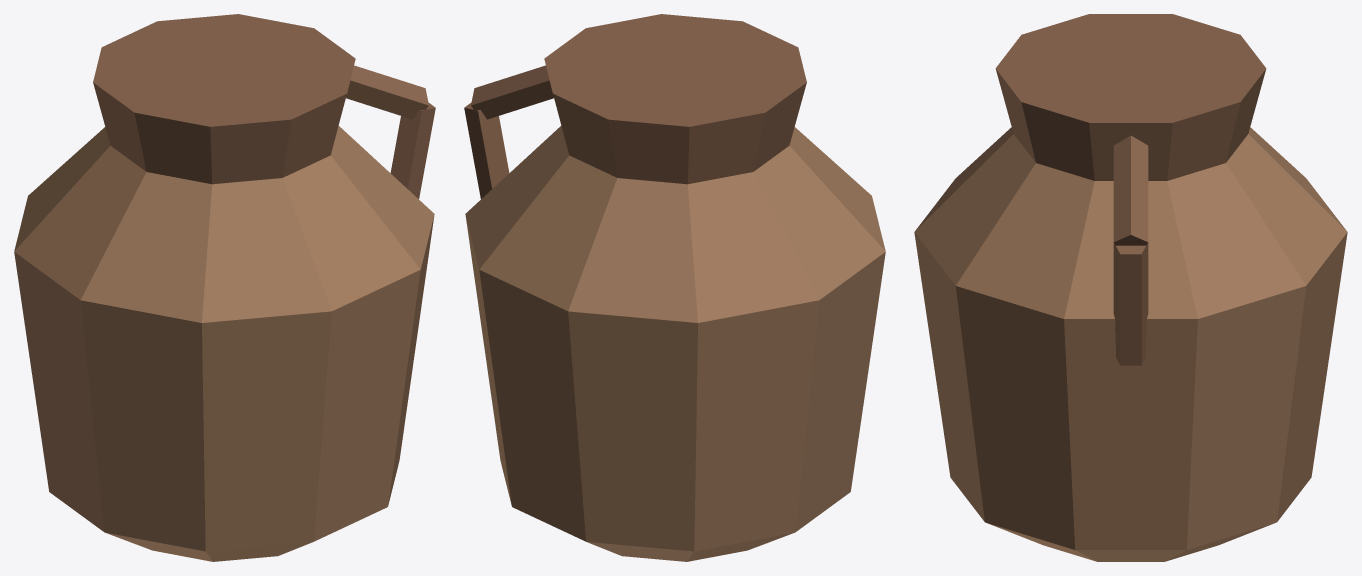
Rendered from amphora_2.glb.
3 views of the same model, side by side, from view 1: azimuth 30°, elevation 25°; view 2: azimuth 150°, elevation 25°; view 3: azimuth 270°, elevation 25° (orthographic).
Visible parts, largest first — view 1: Amphora_2; view 2: Amphora_2; view 3: Amphora_2.
Part boxes in pixels (x1,y1,x2,y2): Amphora_2: [14, 14, 435, 561]; Amphora_2: [464, 14, 885, 561]; Amphora_2: [914, 14, 1347, 561].
Size of the model in its own units: 0.4941 by 0.55 by 0.48.
